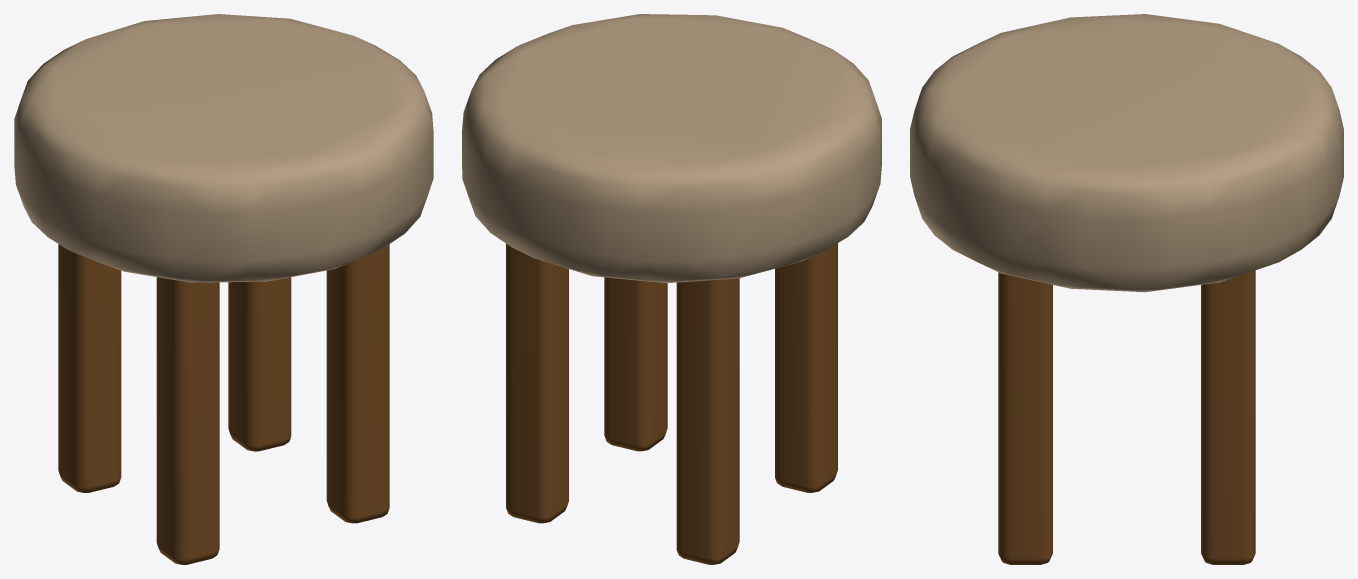
Rendered from stool_07_beige.fbx.
The picture shows the model from 3 angles, left to right: view 1: azimuth 30°, elevation 25°; view 2: azimuth 150°, elevation 25°; view 3: azimuth 270°, elevation 25°; orthographic projection. The views are drawn at different scales.
Visible parts, largest first — view 1: stool_07_beige; view 2: stool_07_beige; view 3: stool_07_beige.
Boxes of the visible parts, x1,y1,x2,y2 form: stool_07_beige: (14,14,433,564); stool_07_beige: (462,14,881,564); stool_07_beige: (910,14,1343,564).
Size of the model in its own units: 41.87 by 45 by 41.87.
1 material, 1 textured.
